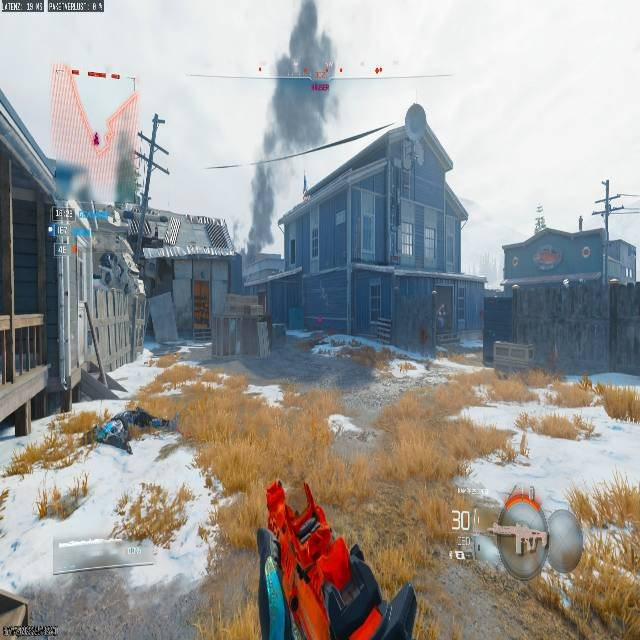player: (436, 303, 447, 328)
